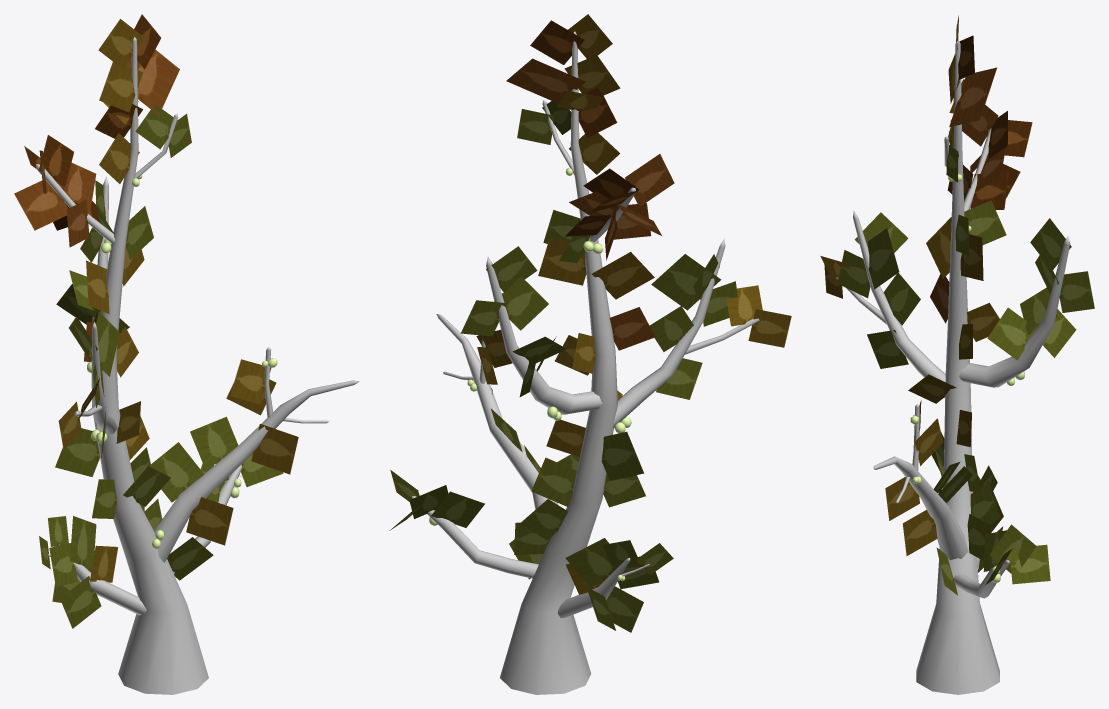
File: Bush03_Art.fbx
The picture shows the model from 3 angles, left to right: view 1: azimuth 30°, elevation 25°; view 2: azimuth 150°, elevation 25°; view 3: azimuth 270°, elevation 25°; orthographic projection. The views are drawn at different scales.
Visible parts, largest first — view 1: Bush03_Art; view 2: Bush03_Art; view 3: Bush03_Art.
Part boxes in pixels (x1=…): Bush03_Art: x1=14, y1=14, x2=359, y2=694; Bush03_Art: x1=389, y1=14, x2=791, y2=694; Bush03_Art: x1=820, y1=15, x2=1094, y2=694.
Size of the model in its own units: 1.29 by 2.51 by 0.9727.
